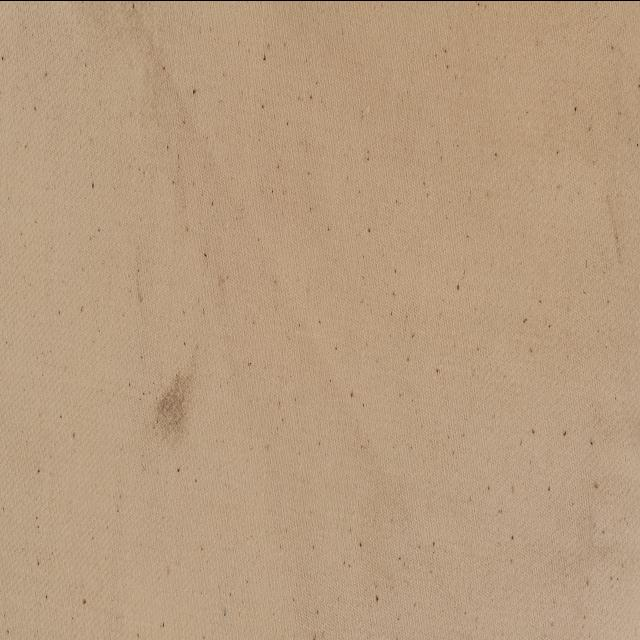taaaches: (144, 338, 207, 466)
